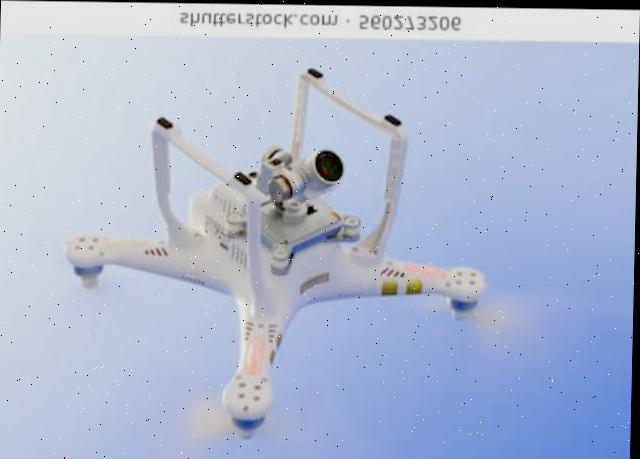drone: (57, 84, 544, 443)
